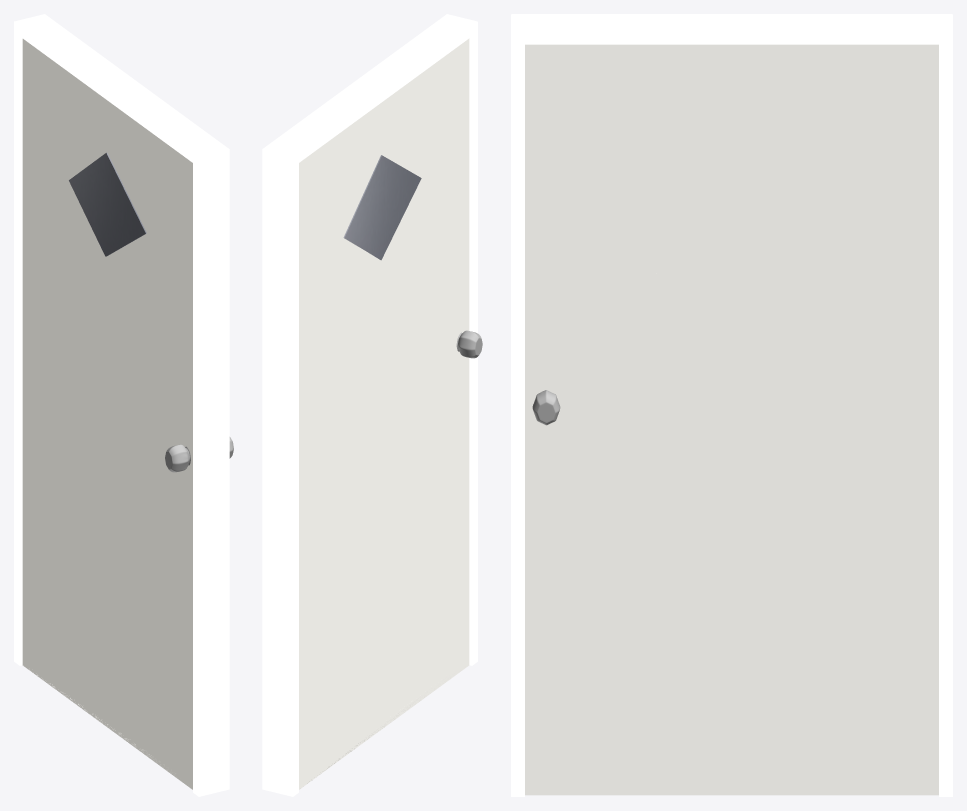
Rendered from diamond_window_walkin_old.493bc5d8.gltf.
The picture shows the model from 3 angles, left to right: view 1: azimuth 30°, elevation 25°; view 2: azimuth 150°, elevation 25°; view 3: azimuth 270°, elevation 25°; orthographic projection. The views are drawn at different scales.
Parts seen in each view (by area): view 1: Plane.001, trims, glass, knob; view 2: Plane.001, trims, glass, knob; view 3: Plane.001, trims.
Part boxes in pixels (<box>): Plane.001: <box>22,39,192,789</box>; trims: <box>14,14,229,796</box>; glass: <box>69,152,146,256</box>; knob: <box>165,437,233,472</box>; Plane.001: <box>299,38,469,789</box>; trims: <box>262,14,477,796</box>; glass: <box>343,155,421,260</box>; knob: <box>456,330,482,358</box>; Plane.001: <box>525,44,938,795</box>; trims: <box>511,14,952,796</box>.
Bounding box in the file's own units: 0.6063 × 6.01 × 3.14.
4 materials, 2 textured.
